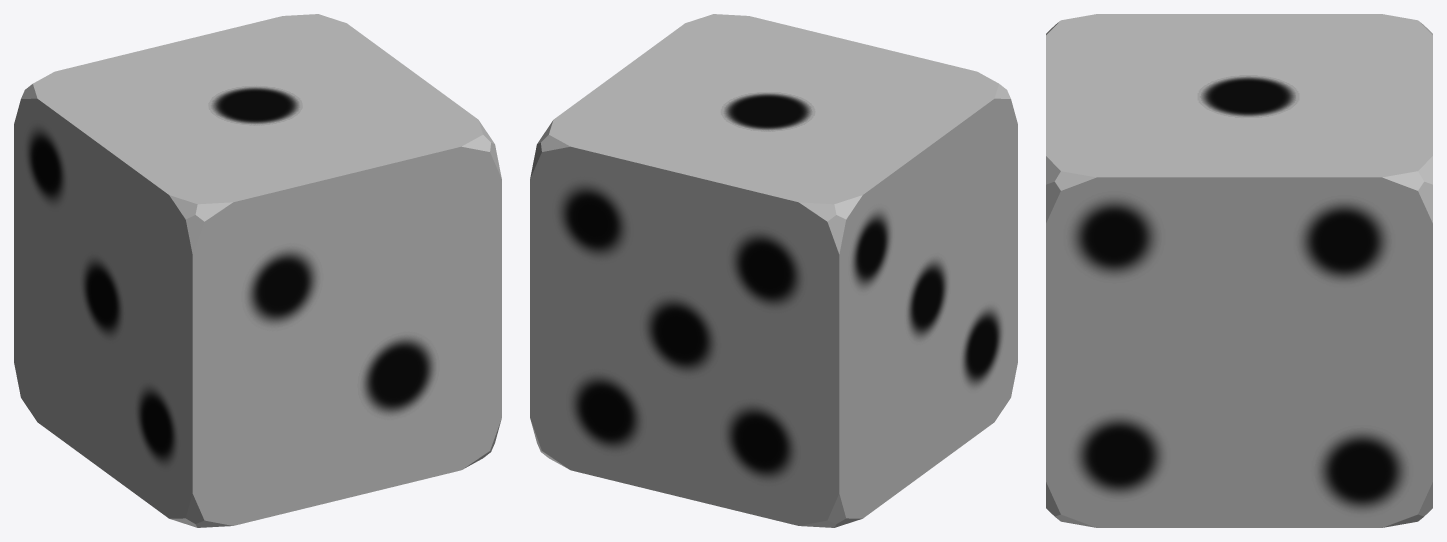
File: dado.fbx
The picture shows the model from 3 angles, left to right: view 1: azimuth 30°, elevation 25°; view 2: azimuth 150°, elevation 25°; view 3: azimuth 270°, elevation 25°; orthographic projection. The views are drawn at different scales.
Visible parts, largest first — view 1: Cube; view 2: Cube; view 3: Cube.
Boxes of the visible parts, box(x1,y1,x2,y2) form: Cube: box(14, 14, 501, 527); Cube: box(530, 14, 1017, 527); Cube: box(1046, 14, 1432, 527).
Bounding box in the file's own units: 200 × 200 × 200.
